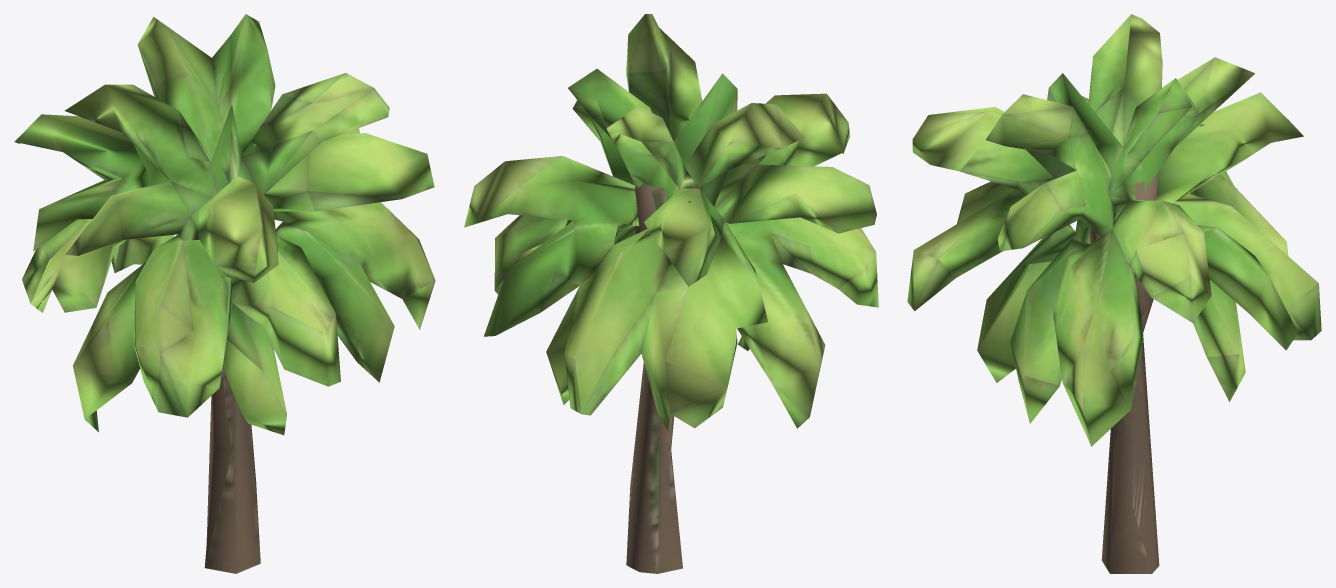
The model's file is palm_c_far.glb.
3 renders of one model, left to right at view 1: azimuth 30°, elevation 25°; view 2: azimuth 150°, elevation 25°; view 3: azimuth 270°, elevation 25°, orthographic. The views are drawn at different scales.
Visible parts, largest first — view 1: body; view 2: body; view 3: body.
Boxes of the visible parts, x1,y1,x2,y2 form: body: (14, 14, 435, 573); body: (464, 14, 878, 573); body: (907, 14, 1321, 573).
Bounding box in the file's own units: 3.38 × 4.46 × 3.32.
2 materials, 2 textured.
